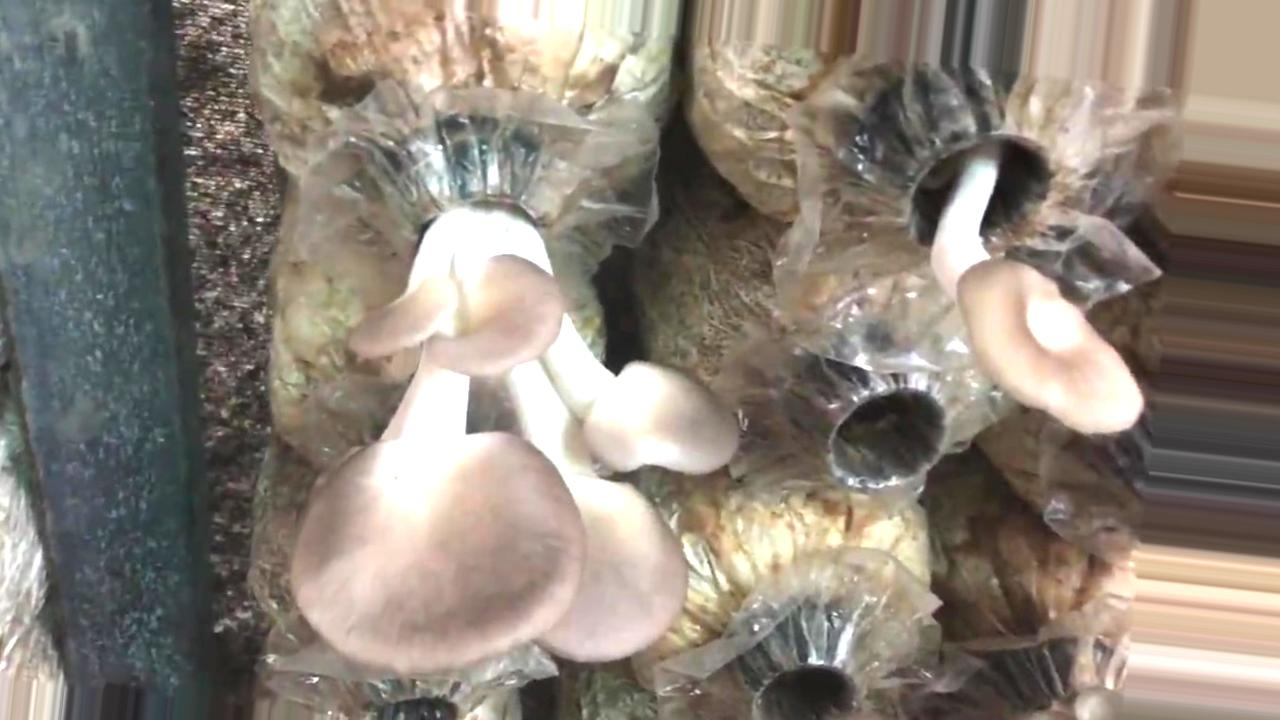nam: (295, 138, 739, 666), (891, 98, 1145, 437)
